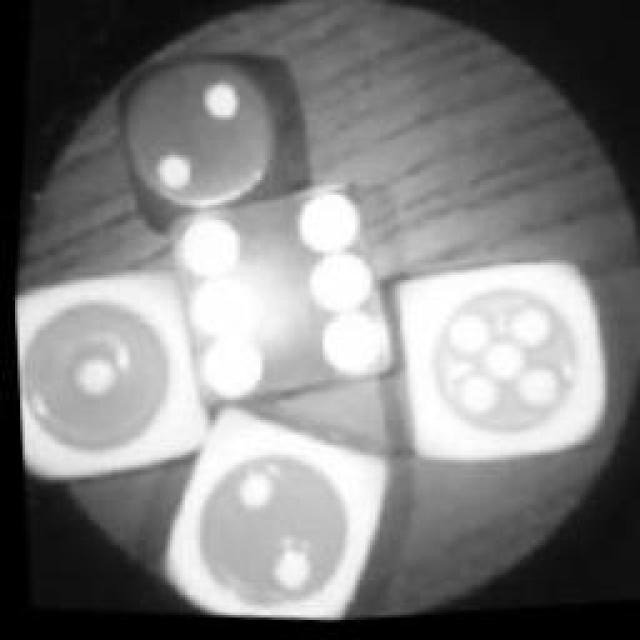dice_1: (10, 242, 232, 508)
dice_2: (140, 392, 395, 632), (92, 28, 312, 248)
dice_5: (368, 242, 630, 498)
dice_6: (142, 160, 418, 438)
